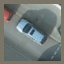car: (14, 14, 48, 45)
